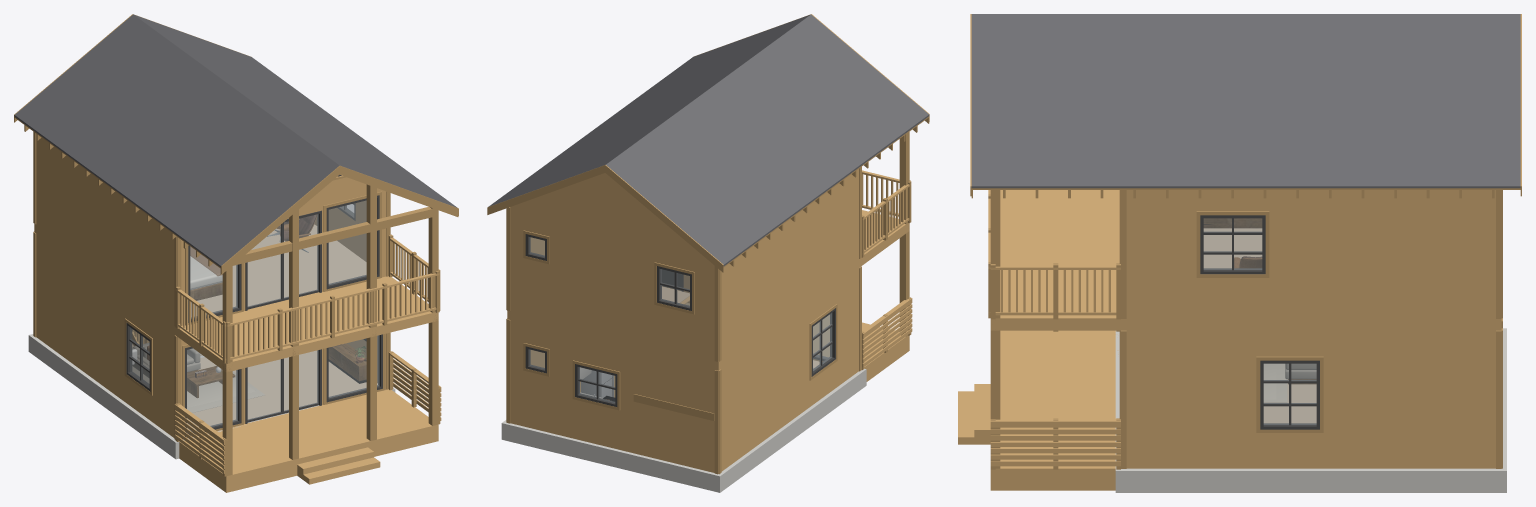
The model's file is web.glb.
The picture shows the model from 3 angles, left to right: view 1: azimuth 30°, elevation 25°; view 2: azimuth 150°, elevation 25°; view 3: azimuth 270°, elevation 25°; orthographic projection. The views are drawn at different scales.
Visible parts, largest first — view 1: wood, roof_tiles, trim, glass, floor, frame, slab, Cube.026, rafters, Cube.092, Cube.055; view 2: wood, roof_tiles, trim, slab, glass, frame, stair, ceiling, Cube.038; view 3: wood, roof_tiles, slab, trim, glass, frame, floor, sheathing, ceiling, Cube.053.
Part boxes in pixels (bbox=[...]): wood: bbox=[34, 134, 441, 492]; roof_tiles: bbox=[14, 14, 457, 267]; trim: bbox=[14, 14, 458, 476]; glass: bbox=[130, 201, 379, 431]; floor: bbox=[132, 224, 377, 430]; frame: bbox=[126, 175, 382, 436]; slab: bbox=[28, 334, 395, 459]; Cube.026: bbox=[328, 343, 366, 381]; rafters: bbox=[24, 125, 458, 274]; Cube.092: bbox=[187, 376, 254, 407]; Cube.055: bbox=[190, 256, 222, 289]; wood: bbox=[507, 169, 912, 472]; roof_tiles: bbox=[488, 14, 929, 266]; trim: bbox=[487, 14, 929, 474]; slab: bbox=[501, 368, 866, 492]; glass: bbox=[529, 237, 831, 402]; frame: bbox=[525, 234, 835, 406]; stair: bbox=[633, 394, 714, 420]; ceiling: bbox=[507, 259, 859, 362]; Cube.038: bbox=[581, 370, 612, 397]; wood: bbox=[958, 190, 1501, 490]; roof_tiles: bbox=[971, 14, 1520, 188]; slab: bbox=[1115, 328, 1506, 492]; trim: bbox=[970, 14, 1521, 469]; glass: bbox=[1204, 218, 1316, 424]; frame: bbox=[1200, 215, 1319, 429]; floor: bbox=[1203, 228, 1316, 423]; sheathing: bbox=[971, 188, 1520, 189]; ceiling: bbox=[1121, 318, 1501, 319]; Cube.053: bbox=[1203, 218, 1262, 228].
Size of the model in its own units: 6.7 by 8.28 by 10.38.
Materials: 50 (18 with a texture image).
